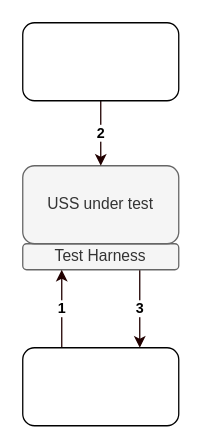
The diagram is 202 pixels wide and 448 high, and some of its shapes have lost their labels. The shapes that lost their labels are listed below. From the top down, each one's box as (x1, y1, x2, y2) in pixels, then its label:
(21, 21, 179, 101): Geo-Awareness Dataset
(21, 346, 179, 426): Test Driver
